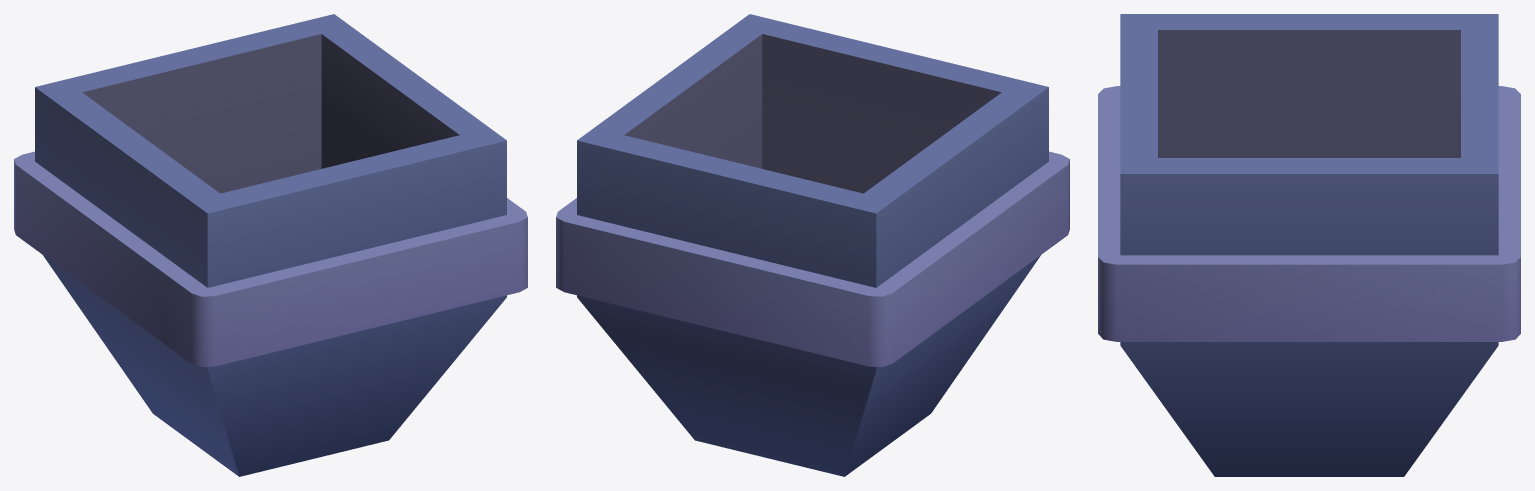
Rendered from F_hopper-square.obj.
The picture shows the model from 3 angles, left to right: view 1: azimuth 30°, elevation 25°; view 2: azimuth 150°, elevation 25°; view 3: azimuth 270°, elevation 25°; orthographic projection. The views are drawn at different scales.
Visible parts, largest first — view 1: hopper-square; view 2: hopper-square; view 3: hopper-square.
Boxes of the visible parts, x1,y1,x2,y2 form: hopper-square: (14,14,527,476); hopper-square: (556,14,1069,476); hopper-square: (1098,14,1520,476).
Size of the model in its own units: 1.12 by 1 by 1.12.
Materials: 1 (1 with a texture image).
